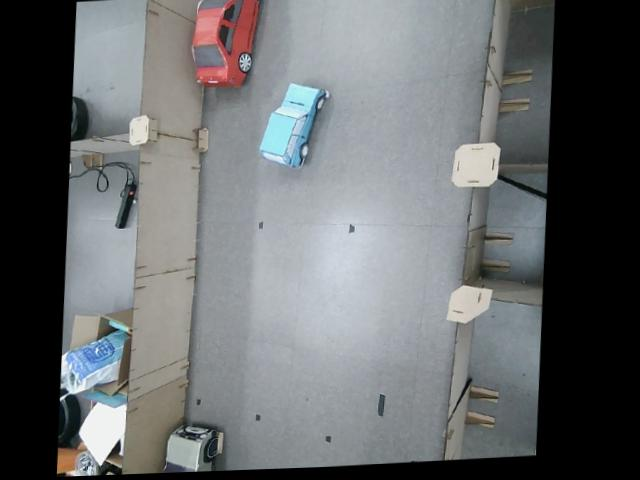car: (186, 0, 265, 89), (256, 82, 328, 170), (158, 423, 218, 473)
